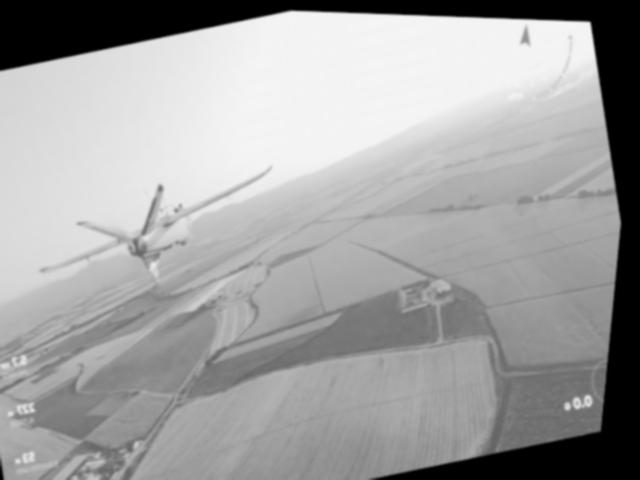hedef: (16, 138, 302, 319)
